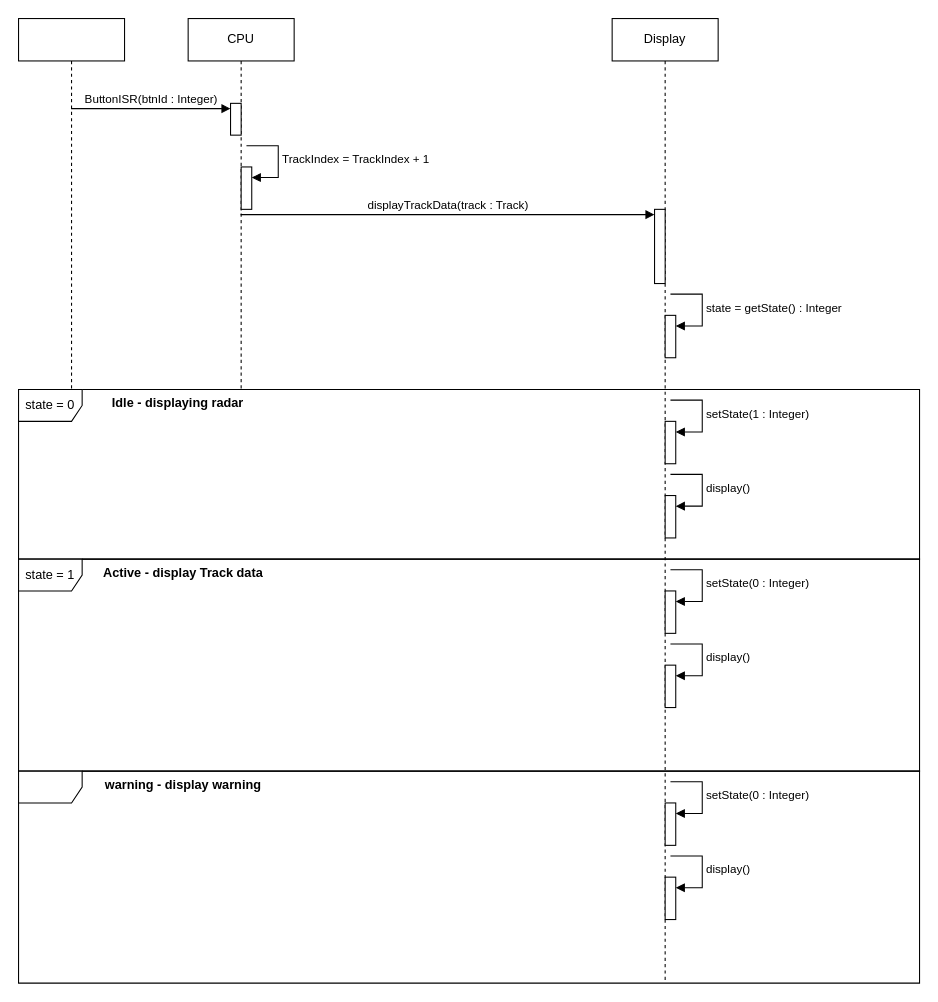
This 938x1002 diagram has some shape labels left out. The box of each missing label's shape, as (x1, y1, x2, y2) in pixels:
Button: (17, 17, 125, 390)
state = 2: (17, 770, 920, 983)
